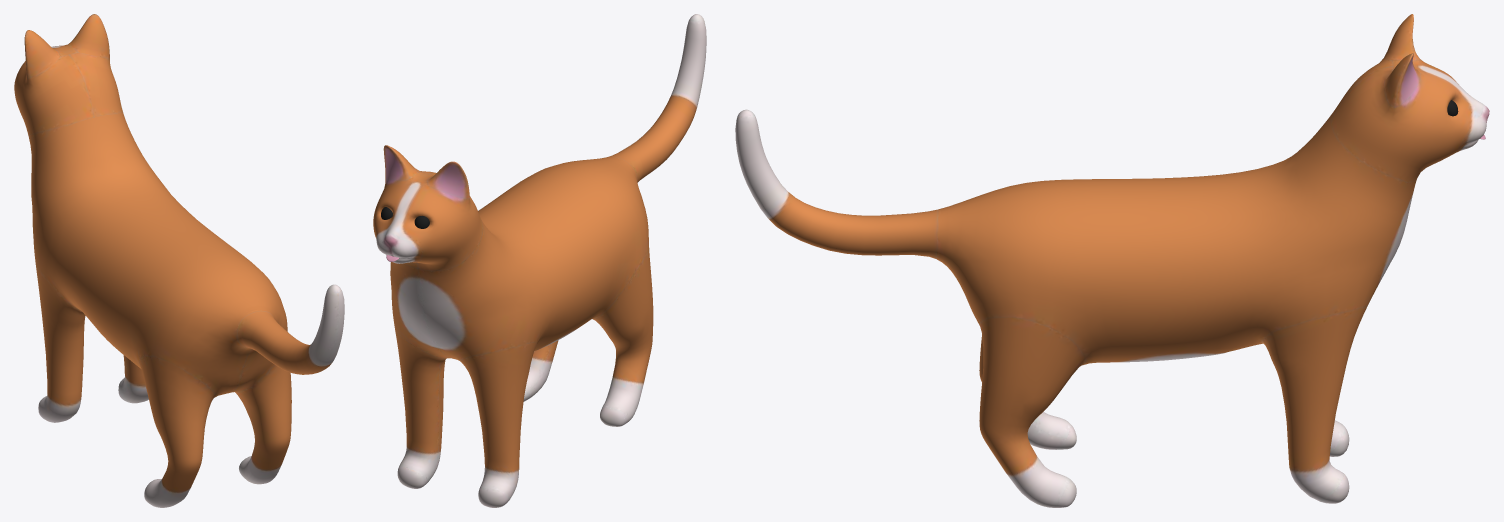
Rendered from cat.glb.
3 renders of one model, left to right at view 1: azimuth 30°, elevation 25°; view 2: azimuth 150°, elevation 25°; view 3: azimuth 270°, elevation 25°, orthographic. The views are drawn at different scales.
Visible parts, largest first — view 1: icons8_cat; view 2: icons8_cat; view 3: icons8_cat.
Part boxes in pixels (x1,y1,x2,y2): icons8_cat: (14,14,344,507); icons8_cat: (373,14,706,507); icons8_cat: (735,14,1489,507).
Size of the model in its own units: 0.2433 by 0.6488 by 1.
Materials: 1 (1 with a texture image).
